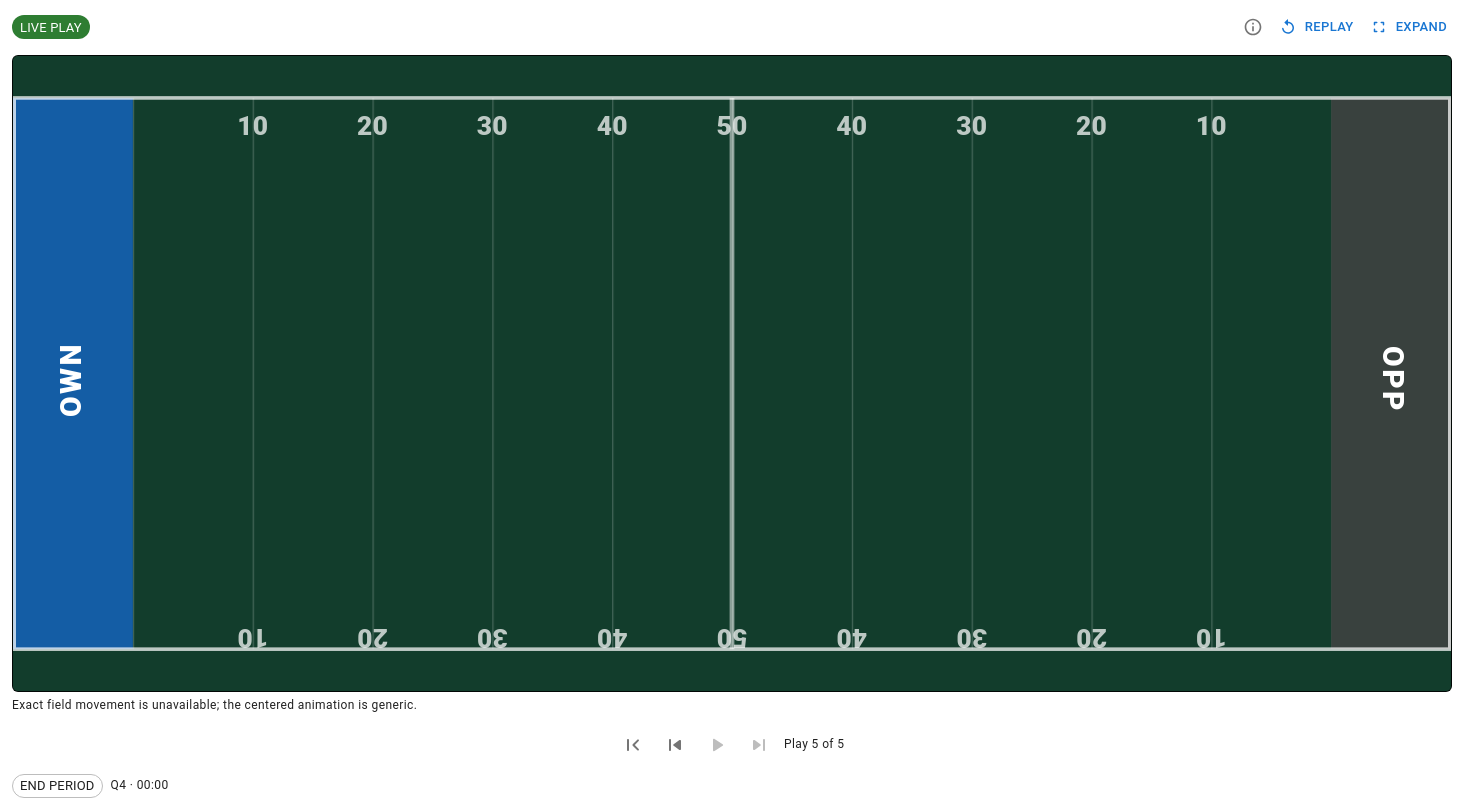
Test: TacticalPlayVisualizer › steps through plays with the playback controls, including jumping back to the first play
Expected: the text "Play 5 of 5" is shown, x1=784 y1=735 x2=848 y2=755
Click the button named "Previous play".
click(675, 745)  # box x1=658 y1=728 x2=692 y2=762
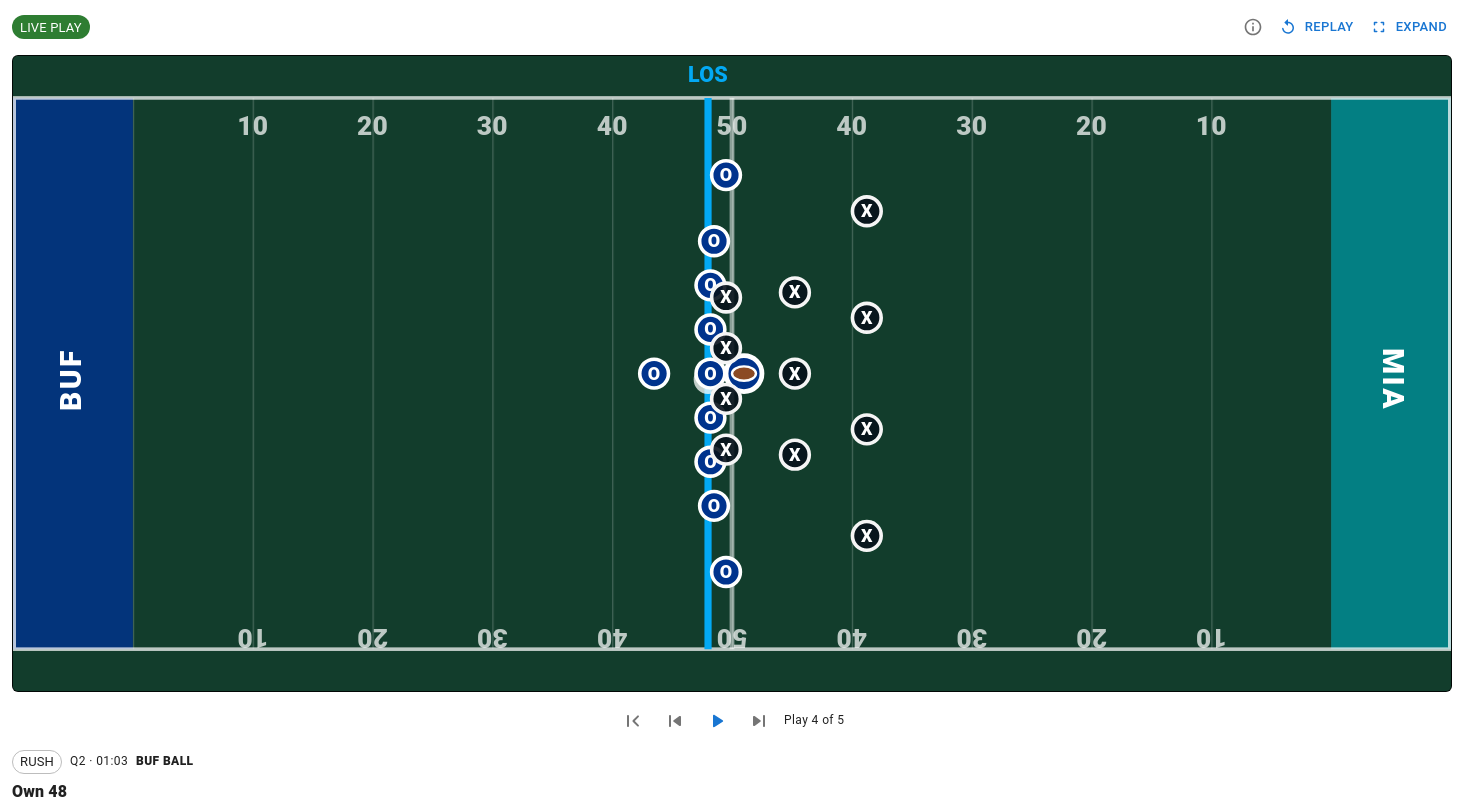
Expected: the text "Play 4 of 5" is shown, x1=784 y1=711 x2=848 y2=731
Click the button named "Start from the beginning".
click(633, 721)  # box x1=616 y1=704 x2=650 y2=738
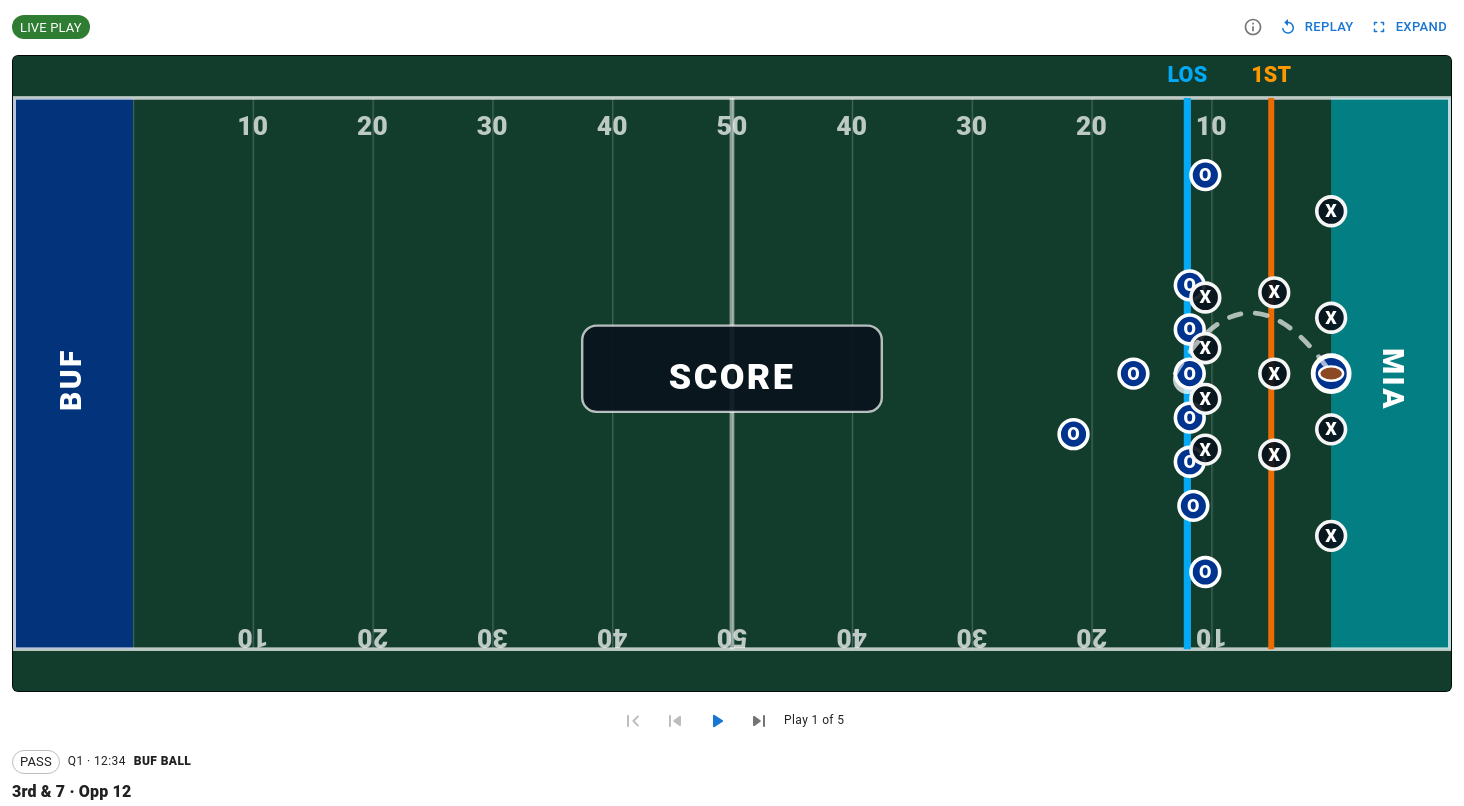
Expected: the text "Play 1 of 5" is shown, x1=784 y1=711 x2=848 y2=731
Expected: the button named "Previous play" is disabled, x1=658 y1=704 x2=692 y2=738
Expected: the button named "Start from the beginning" is disabled, x1=616 y1=704 x2=650 y2=738
